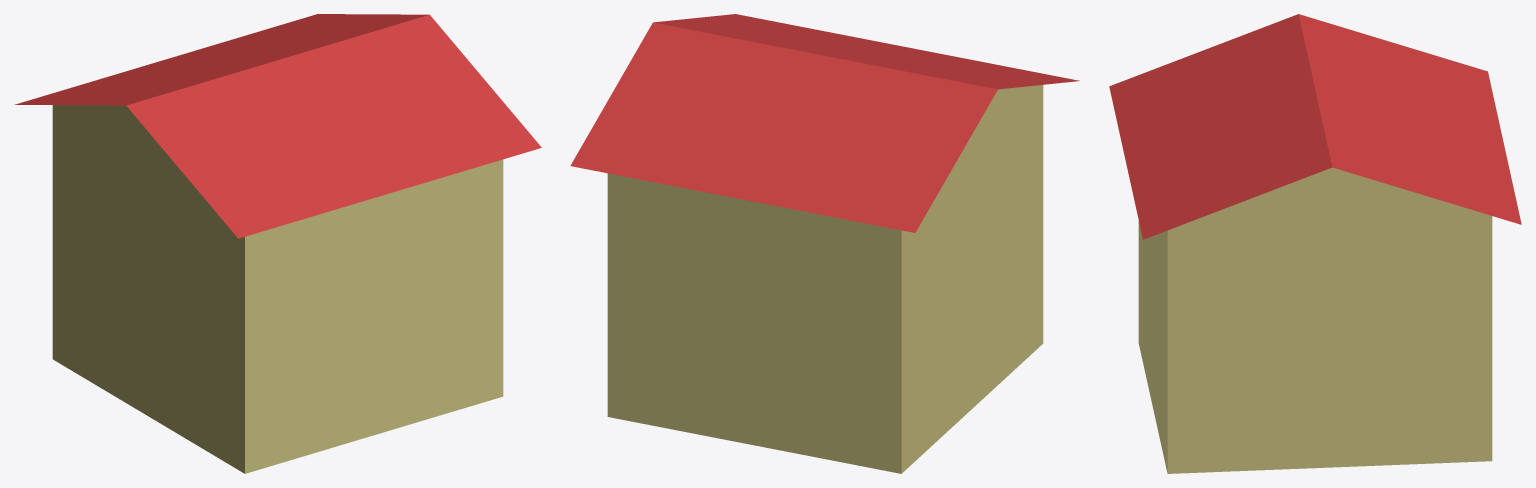
3 renders of one model, left to right at view 1: azimuth 30°, elevation 25°; view 2: azimuth 150°, elevation 25°; view 3: azimuth 270°, elevation 25°, orthographic. The views are drawn at different scales.
Bounding box in the file's own units: 7.34 × 7.6 × 6.33.
